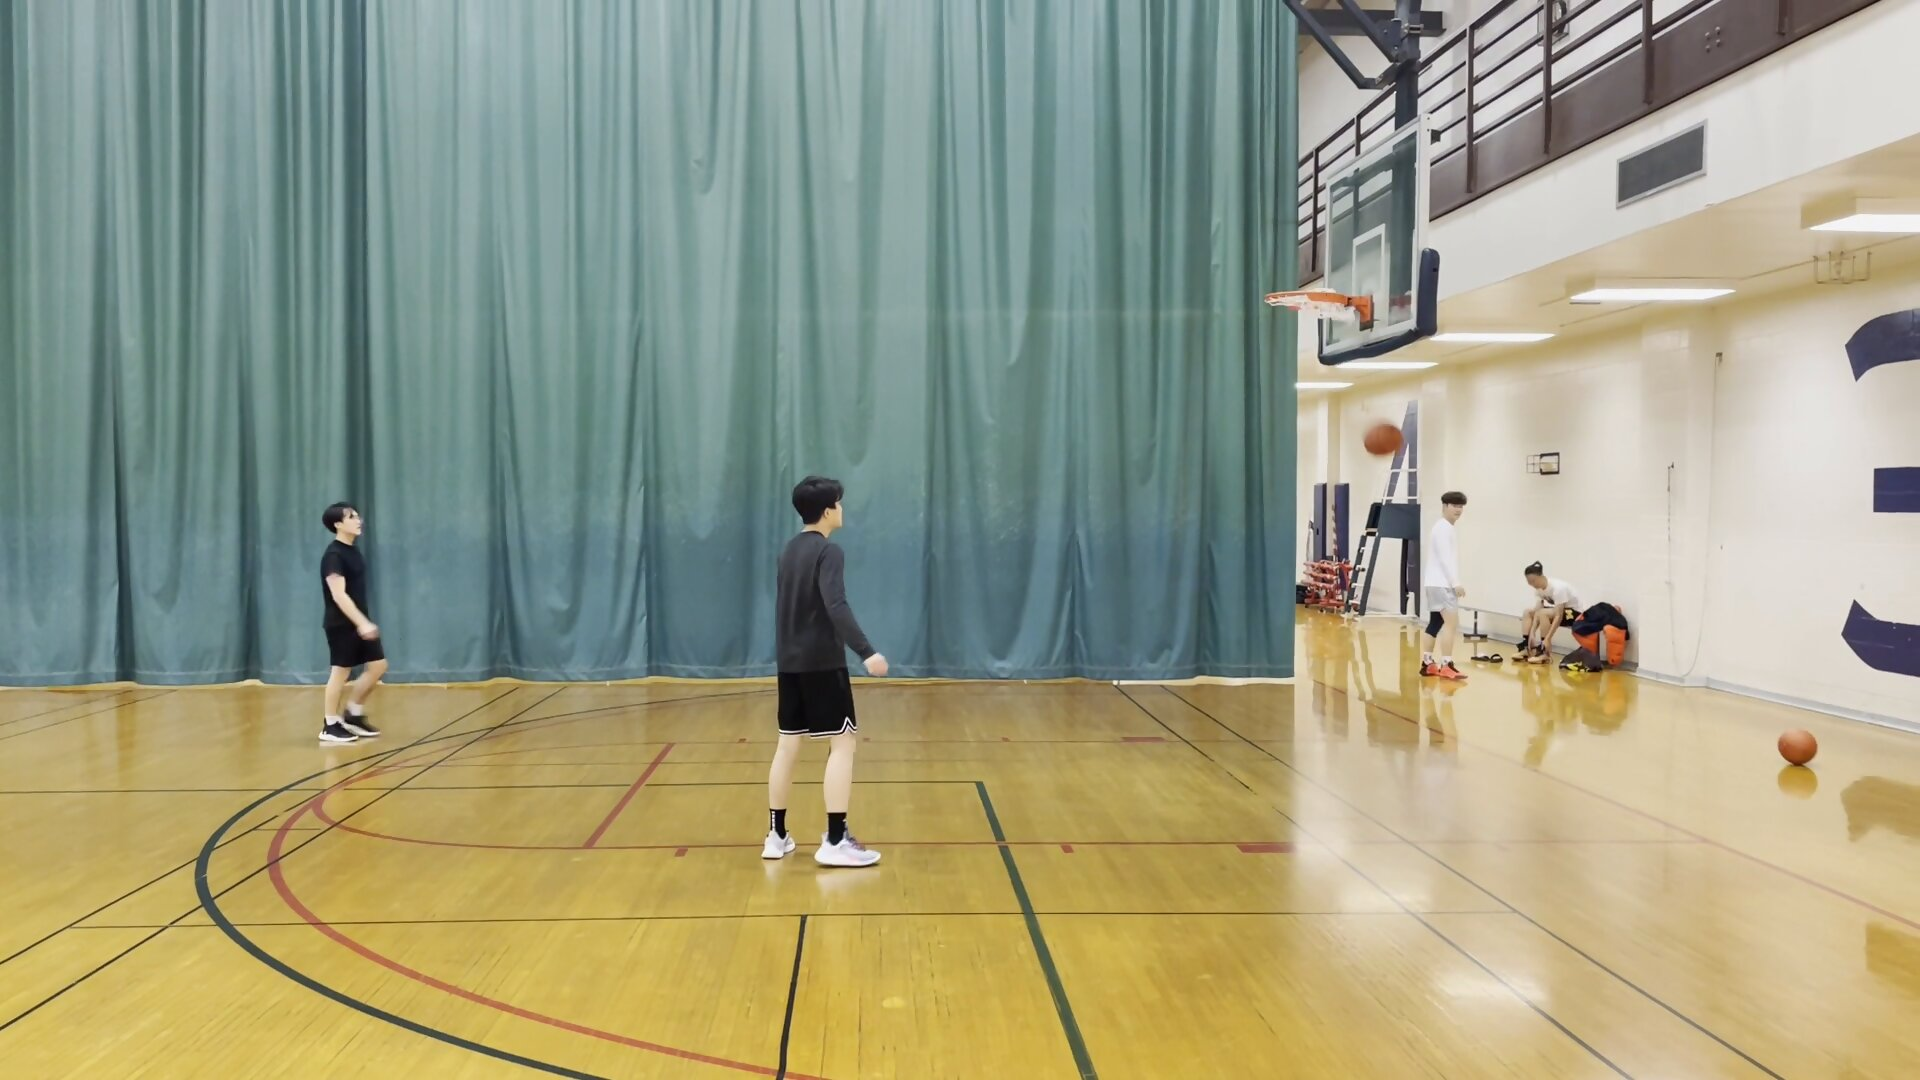ball: (1776, 727, 1820, 773), (1360, 420, 1407, 462)
net: (1298, 305, 1360, 327)
player: (760, 472, 886, 872), (312, 502, 388, 741), (1425, 489, 1472, 681), (1515, 557, 1584, 669)
rim: (1257, 287, 1355, 307)
